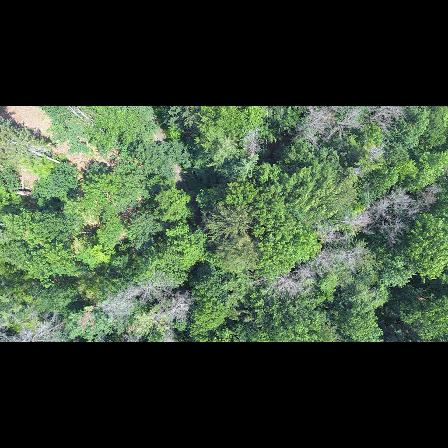Dead: (2, 315, 72, 341), (373, 195, 405, 241), (360, 106, 408, 133), (98, 288, 141, 317), (395, 183, 440, 210), (289, 114, 320, 149), (326, 109, 357, 144), (162, 295, 193, 324), (262, 271, 298, 295), (341, 211, 381, 231), (242, 128, 265, 161), (292, 261, 320, 284), (139, 274, 164, 299), (315, 245, 346, 264)
